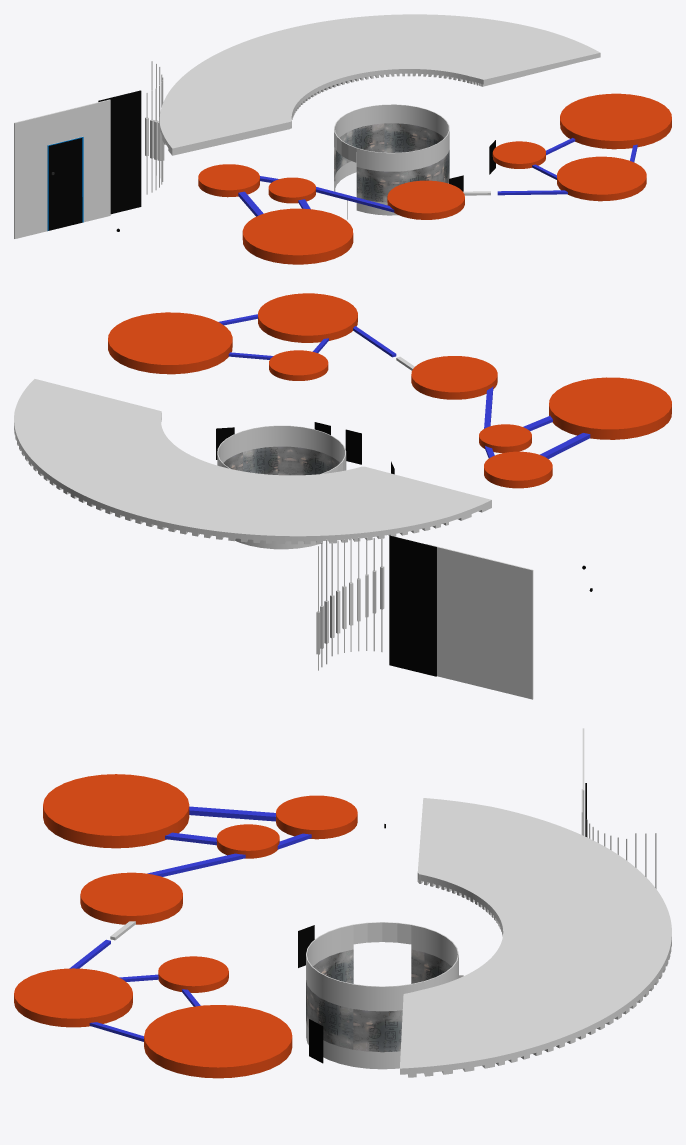
File: tic3.fbx
The picture shows the model from 3 angles, top to bottom: view 1: azimuth 30°, elevation 25°; view 2: azimuth 150°, elevation 25°; view 3: azimuth 270°, elevation 25°; orthographic projection. The views are drawn at different scales.
Visible parts, largest first — view 1: Cube.176, Cube.153, Cylinder.021, Cylinder.015, Glass, Glass.001, Cube.155, Cylinder.017, Cylinder.018, Cylinder.020, Cylinder.016, Cylinder.019 (+1 smaller); view 2: Cube.176, Cube.153, Cylinder.015, Cylinder.021, Cube.155, Cylinder.017, Glass, Cylinder.018, Glass.001, Cylinder.020, Cylinder.016, Cylinder.019; view 3: Cube.176, Cylinder.015, Cylinder.021, Glass, Cylinder.017, Glass.001, Cylinder.018, Cylinder.020, Cylinder.016, Cylinder.019, Cube.174, Cube.172.
Part boxes in pixels (left/top/right/bottom): Cube.176: left=159, top=14, right=600, bottom=155; Cube.153: left=14, top=99, right=110, bottom=238; Cylinder.021: left=242, top=208, right=353, bottom=264; Cylinder.015: left=560, top=93, right=671, bottom=149; Glass: left=334, top=104, right=449, bottom=215; Glass.001: left=334, top=123, right=449, bottom=202; Cube.155: left=98, top=90, right=141, bottom=214; Cylinder.017: left=557, top=156, right=646, bottom=201; Cylinder.018: left=387, top=180, right=464, bottom=219; Cylinder.020: left=198, top=164, right=259, bottom=197; Cylinder.016: left=492, top=141, right=545, bottom=168; Cylinder.019: left=268, top=177, right=315, bottom=203; Cube.176: left=14, top=379, right=491, bottom=544; Cube.153: left=426, top=544, right=533, bottom=699; Cylinder.015: left=108, top=312, right=232, bottom=374; Cylinder.021: left=549, top=377, right=671, bottom=439; Cube.155: left=389, top=535, right=436, bottom=676; Cylinder.017: left=258, top=293, right=357, bottom=342; Glass: left=217, top=425, right=346, bottom=549; Cylinder.018: left=411, top=356, right=497, bottom=399; Glass.001: left=223, top=446, right=339, bottom=475; Cylinder.020: left=484, top=451, right=552, bottom=488; Cylinder.016: left=269, top=350, right=328, bottom=380; Cylinder.019: left=479, top=424, right=531, bottom=453; Cube.176: left=400, top=798, right=671, bottom=1077; Cylinder.015: left=144, top=1005, right=292, bottom=1078; Cylinder.021: left=43, top=774, right=189, bottom=848; Glass: left=306, top=922, right=458, bottom=1069; Cylinder.017: left=14, top=968, right=132, bottom=1027; Glass.001: left=306, top=949, right=451, bottom=1052; Cylinder.018: left=80, top=872, right=182, bottom=924; Cylinder.020: left=276, top=795, right=357, bottom=839; Cylinder.016: left=158, top=956, right=228, bottom=992; Cylinder.019: left=216, top=824, right=279, bottom=858; Cube.174: left=189, top=806, right=275, bottom=821; Cube.172: left=147, top=853, right=245, bottom=876.
Bounding box in the file's own units: 9524 × 2067 × 7937.
Materials: 12 (1 with a texture image).
